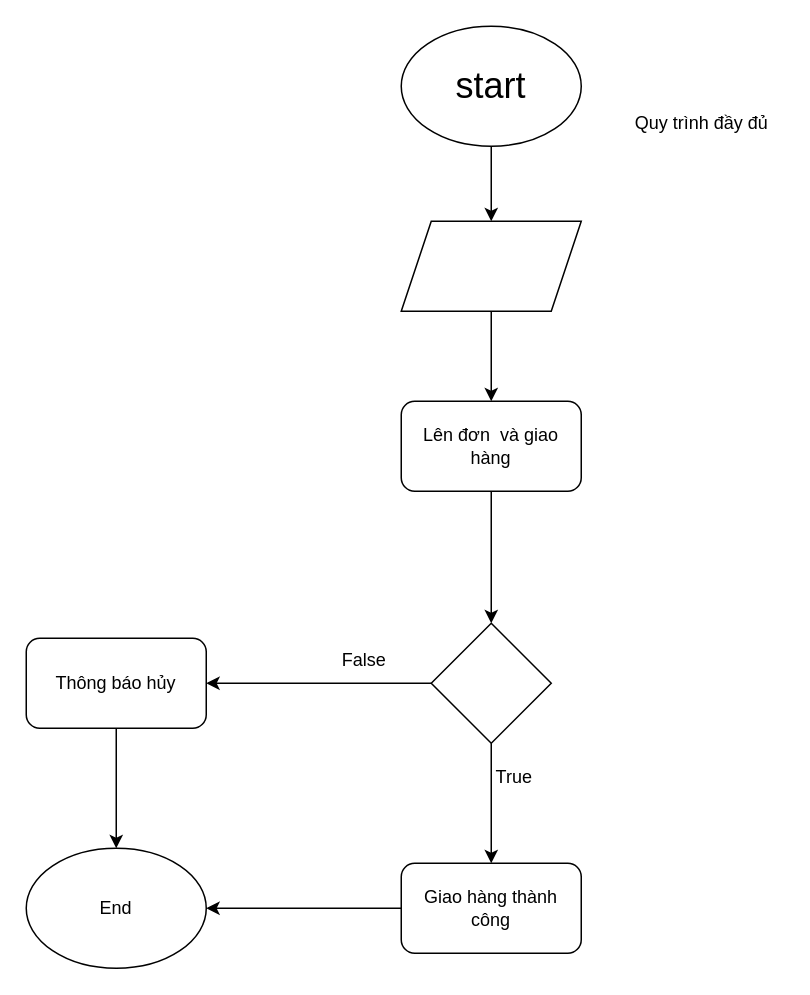
The diagram is 810 pixels wide and 995 high, and some of its shapes have lost their labels. The centre of each missing label's shape, as x and y in pixels:
"Khách hàng đặt món" belongs at (x=490, y=265).
"Liên hệ khách" belongs at (x=490, y=682).
